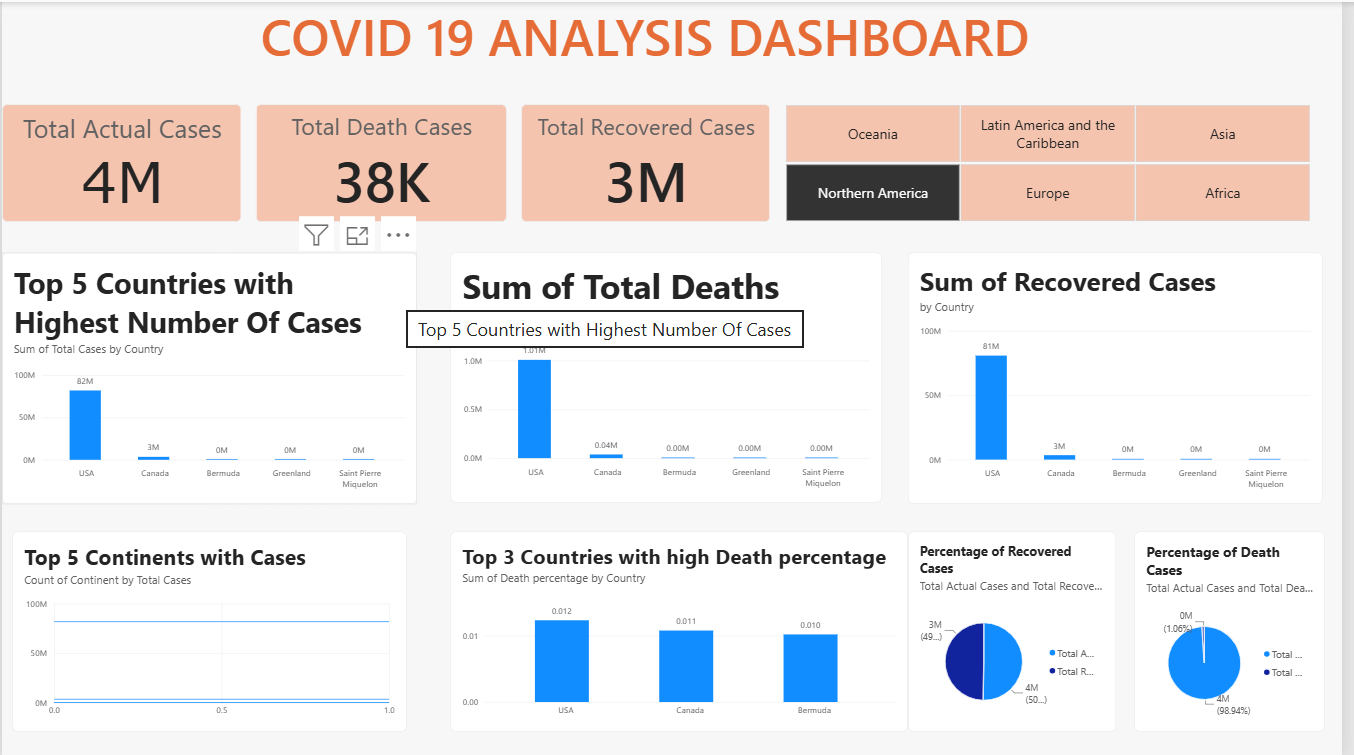

The page's visual inventory and layout, read from the dashboard file:
{"tool":"powerbi","page":{"name":"Dashboard","canvas":[1920,1080],"ordinal":5},"visuals":[{"type":"cardVisual","fields":{"Data":["COVID_19_Coronavirus.Total Actual Cases"]},"box":[0,145.5,343.6,169.4],"z":0},{"type":"cardVisual","fields":{"Data":["COVID_19_Coronavirus.Total Death Cases"]},"box":[362.7,145.5,360.3,169.4],"z":2},{"type":"cardVisual","fields":{"Data":["COVID_19_Coronavirus.Total Recovered Cases"]},"box":[744.4,145.5,357.9,169.4],"z":3},{"type":"columnChart","title":"Top 5 Countries with Highest Number Of Cases","fields":{"Category":["COVID_19_Coronavirus.Country"],"Y":["Sum(COVID_19_Coronavirus.Total Cases)"]},"box":[0,359.7,594.1,360.3],"z":4},{"type":"columnChart","fields":{"Category":["COVID_19_Coronavirus.Country"],"Y":["Sum(COVID_19_Coronavirus.Total Deaths)"]},"box":[643.4,359.7,618,357.9],"z":5},{"type":"columnChart","fields":{"Category":["COVID_19_Coronavirus.Country"],"Y":["Sum(COVID_19_Coronavirus.Recovered Cases)"]},"box":[1298.1,359.7,594,360],"z":6},{"type":"clusteredBarChart","title":"Top 5 Continents with Cases","fields":{"Category":["COVID_19_Coronavirus.Total Cases"],"Y":["CountNonNull(COVID_19_Coronavirus.Continent)"]},"box":[14,758.6,564.8,286.6],"z":7},{"type":"columnChart","title":"Top 3 Countries with high Death percentage","fields":{"Category":["COVID_19_Coronavirus.Country"],"Y":["Sum(COVID_19_Coronavirus.Death percentage)"]},"box":[643.4,758.6,654.7,286.6],"z":8},{"type":"pieChart","title":"Percentage of Recovered Cases","fields":{"Y":["COVID_19_Coronavirus.Total Actual Cases","COVID_19_Coronavirus.Total Recovered Cases"]},"box":[1298.1,758.6,297.8,286.6],"z":9},{"type":"pieChart","title":"Percentage of Death Cases","fields":{"Y":["COVID_19_Coronavirus.Total Actual Cases","COVID_19_Coronavirus.Total Death Cases"]},"box":[1621.2,758.6,272.5,286.6],"z":10},{"type":"textbox","box":[269.6,0,1305.1,202.8],"z":11},{"type":"slicer","fields":{"Values":["COVID_19_Coronavirus.Continent"]},"box":[1102.3,145.5,789.7,169.4],"z":12}]}

Visuals, with their boxes in screenshot pixels (x1, y1, x2, y2), scaled from the page's 1920x1080 canvas onto the 1354x755 screenshot:
cardVisual - COVID_19_Coronavirus.Total Actual Cases: (x1=0, y1=102, x2=242, y2=220)
cardVisual - COVID_19_Coronavirus.Total Death Cases: (x1=256, y1=102, x2=510, y2=220)
cardVisual - COVID_19_Coronavirus.Total Recovered Cases: (x1=525, y1=102, x2=777, y2=220)
"Top 5 Countries with Highest Number Of Cases" columnChart: (x1=0, y1=251, x2=419, y2=503)
columnChart - COVID_19_Coronavirus.Country x Sum(COVID_19_Coronavirus.Total Deaths): (x1=454, y1=251, x2=890, y2=502)
columnChart - COVID_19_Coronavirus.Country x Sum(COVID_19_Coronavirus.Recovered Cases): (x1=915, y1=251, x2=1334, y2=503)
"Top 5 Continents with Cases" clusteredBarChart: (x1=10, y1=530, x2=408, y2=731)
"Top 3 Countries with high Death percentage" columnChart: (x1=454, y1=530, x2=915, y2=731)
"Percentage of Recovered Cases" pieChart: (x1=915, y1=530, x2=1125, y2=731)
"Percentage of Death Cases" pieChart: (x1=1143, y1=530, x2=1335, y2=731)
textbox: (x1=190, y1=0, x2=1110, y2=142)
slicer - COVID_19_Coronavirus.Continent: (x1=777, y1=102, x2=1334, y2=220)
